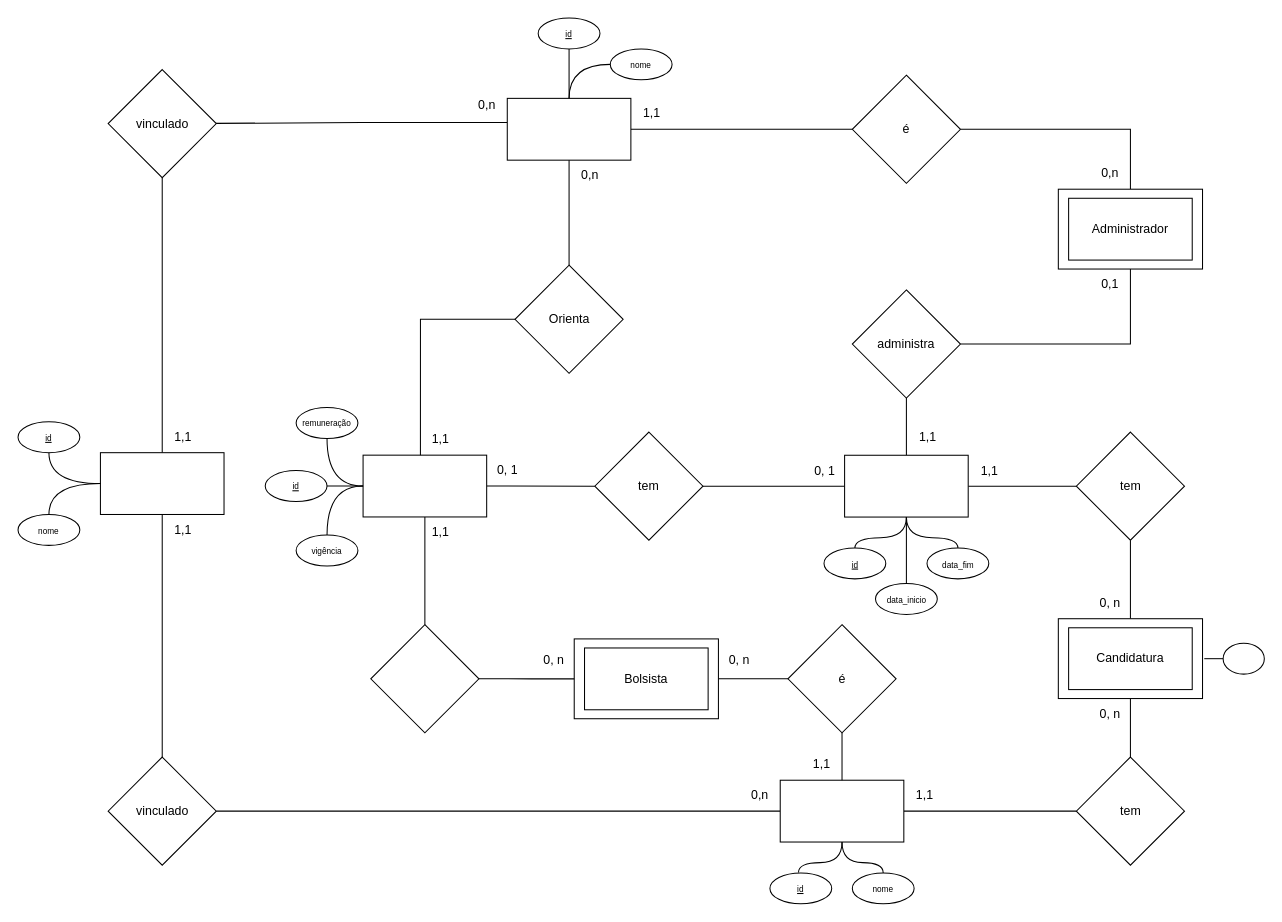
Some shapes in this 1282 by 922 pixel diagram are drawn without their labels. Each missing label, with the centre of its shape:
"Aluno" belongs at pixel 841 810.
"data" belongs at pixel 1243 658.
"GrupoBolsa" belongs at pixel 424 485.
"Instituto" belongs at pixel 161 483.
"pertence" belongs at pixel 424 678.
"ProcessoSeletivo" belongs at pixel 906 485.
"Professor" belongs at pixel 568 128.
